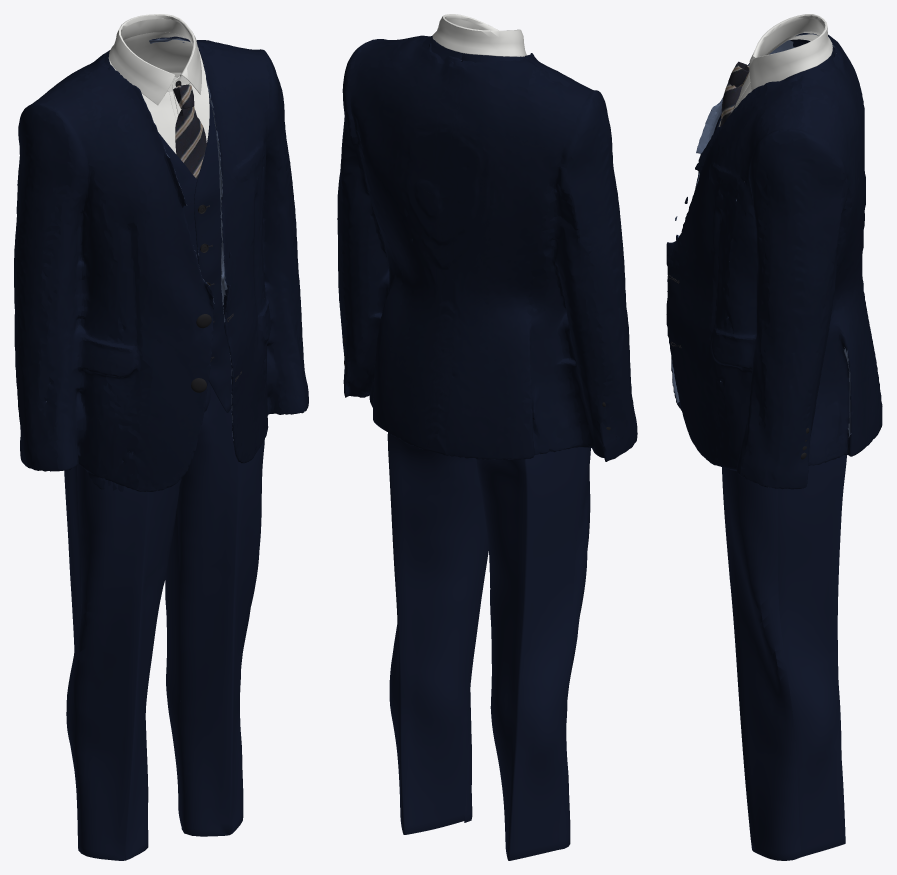
File: MW_Tailleur_suit_v5_REBUILD_try3.glb
3 views of the same model, side by side, from view 1: azimuth 30°, elevation 25°; view 2: azimuth 150°, elevation 25°; view 3: azimuth 270°, elevation 25° (orthographic). The views are drawn at different scales.
Parts seen in each view (by area): view 1: Jacket, Trousers, Shirt, Waistcoat, Tie, Trim; view 2: Jacket, Trousers, Shirt, Waistcoat; view 3: Jacket, Trousers, Shirt, Tie, Waistcoat.
Boxes of the visible parts, bbox=[...] form: Jacket: bbox=[14, 36, 308, 491]; Trousers: bbox=[64, 381, 264, 860]; Shirt: bbox=[108, 14, 209, 153]; Waistcoat: bbox=[104, 43, 231, 412]; Tie: bbox=[173, 84, 206, 179]; Trim: bbox=[175, 80, 211, 392]; Jacket: bbox=[337, 35, 637, 461]; Trousers: bbox=[387, 375, 590, 860]; Shirt: bbox=[432, 14, 526, 56]; Waistcoat: bbox=[422, 35, 528, 62]; Jacket: bbox=[666, 33, 882, 489]; Trousers: bbox=[722, 455, 846, 860]; Shirt: bbox=[718, 14, 832, 126]; Tie: bbox=[720, 61, 749, 126]; Waistcoat: bbox=[713, 46, 835, 382].
Size of the model in its own units: 0.5401 by 1.5 by 0.3675.
Materials: 8 (3 with a texture image).
